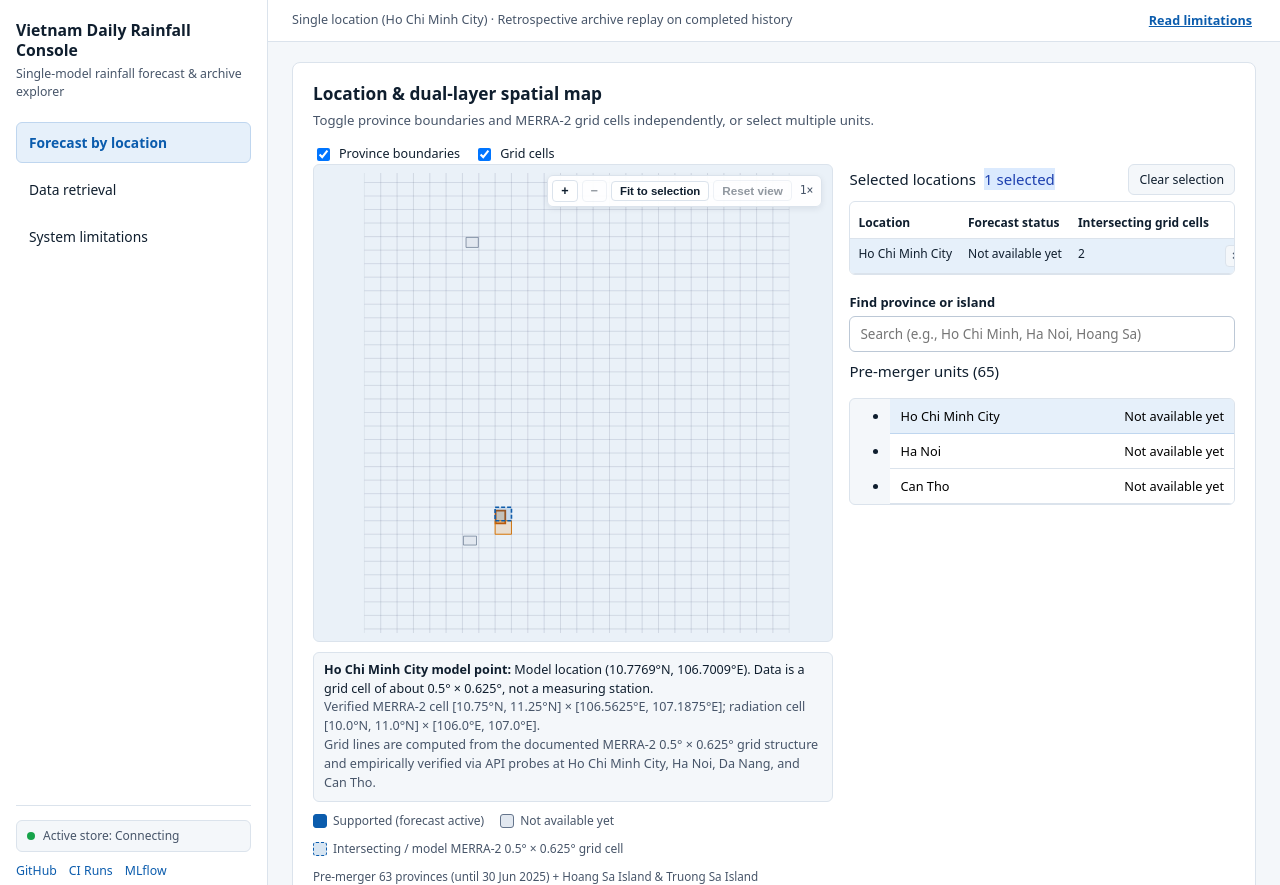
Test: Round 10 English SPA, Single-Model Main, 2-Layer Map & Data Retrieval › renders Tab 3 System limitations with Spatial representativeness & 3 NASA POWER links, zero model-selection prose
This screenshot has width=1280, height=885.
Click the button "System limitations": (134, 236) top-left (16, 216), bottom-right (251, 257)
(page scrolled)
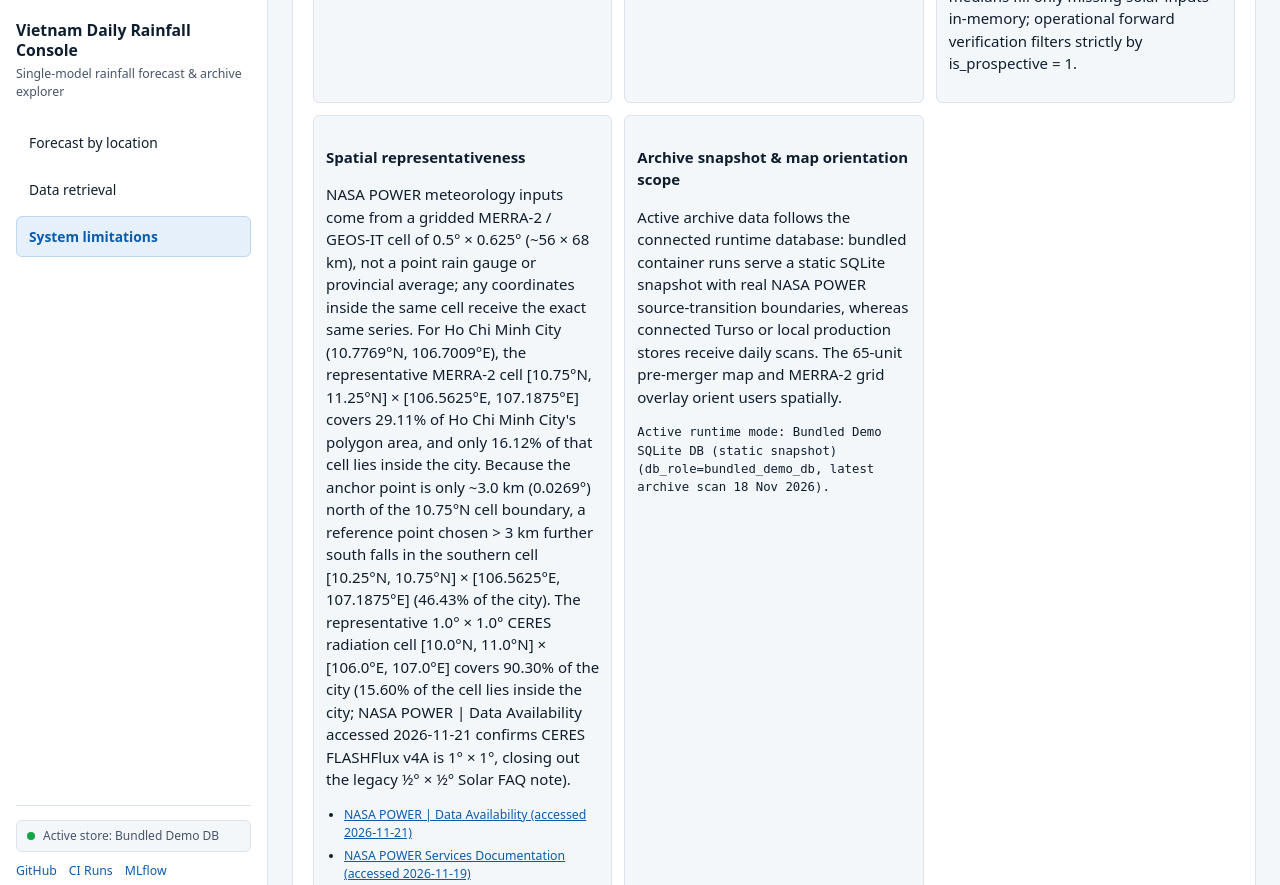
Expected: the heading "Spatial representativeness" is shown, top-left (326, 147), bottom-right (526, 167)
Expected: the text "29.11%" is shown, top-left (326, 184), bottom-right (599, 789)
Expected: the text "16.12%" is shown, top-left (326, 184), bottom-right (599, 789)
